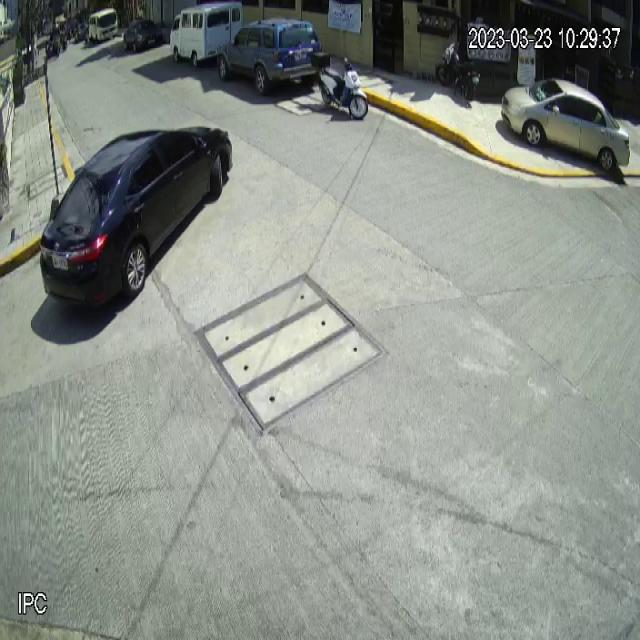Car: (35, 123, 232, 313), (502, 76, 630, 174), (215, 18, 323, 95)
Motorcycle: (315, 56, 369, 121)
Van: (169, 1, 244, 68)
